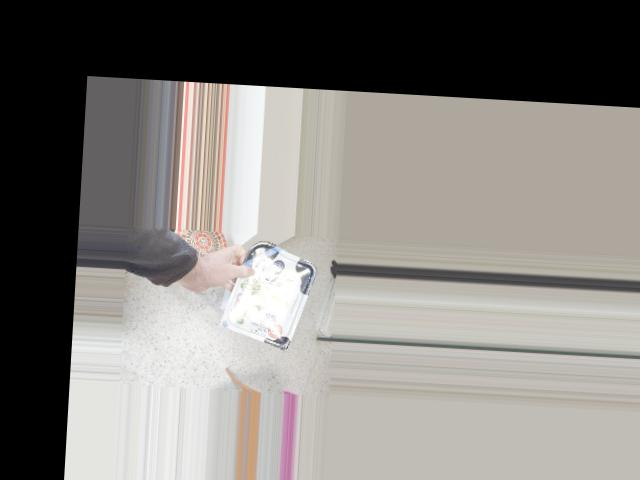cheese: (236, 245, 307, 338)
